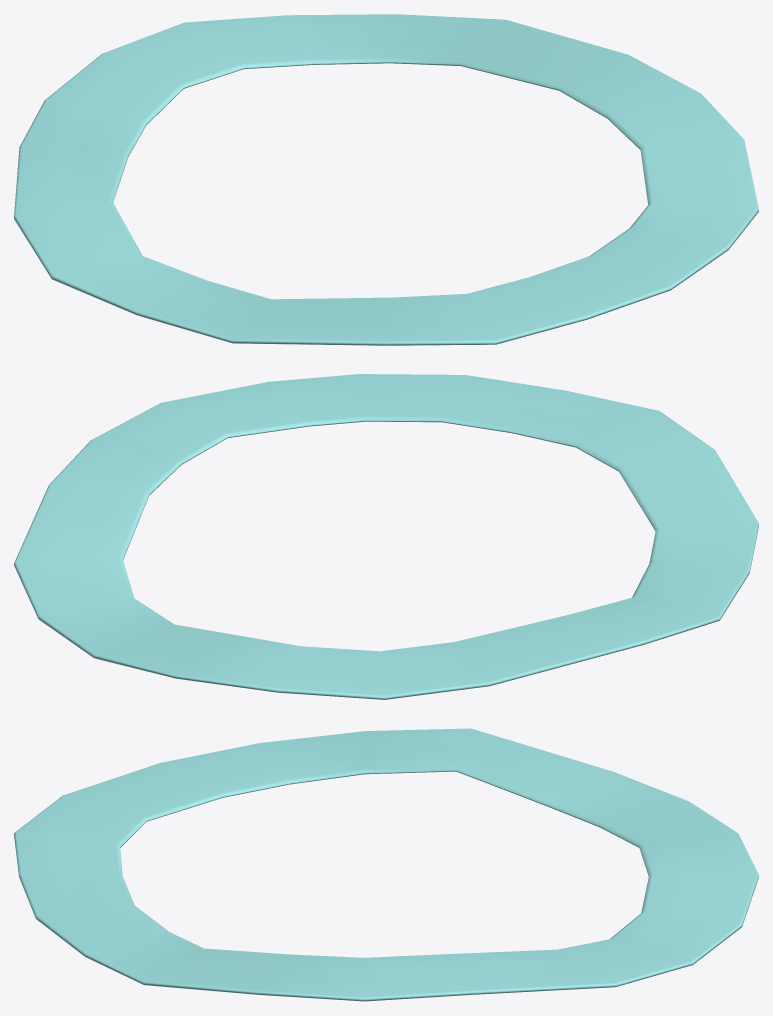
Rendered from big ring.fbx.
3 renders of one model, top to bottom at view 1: azimuth 30°, elevation 25°; view 2: azimuth 150°, elevation 25°; view 3: azimuth 270°, elevation 25°, orthographic. The views are drawn at different scales.
Visible parts, largest first — view 1: pCylinder1; view 2: pCylinder1; view 3: pCylinder1.
Boxes of the visible parts, left/top/right/bottom form: pCylinder1: left=14, top=14, right=758, bottom=345; pCylinder1: left=14, top=374, right=758, bottom=699; pCylinder1: left=14, top=728, right=758, bottom=1001.
Size of the model in its own units: 267 by 11.78 by 289.
